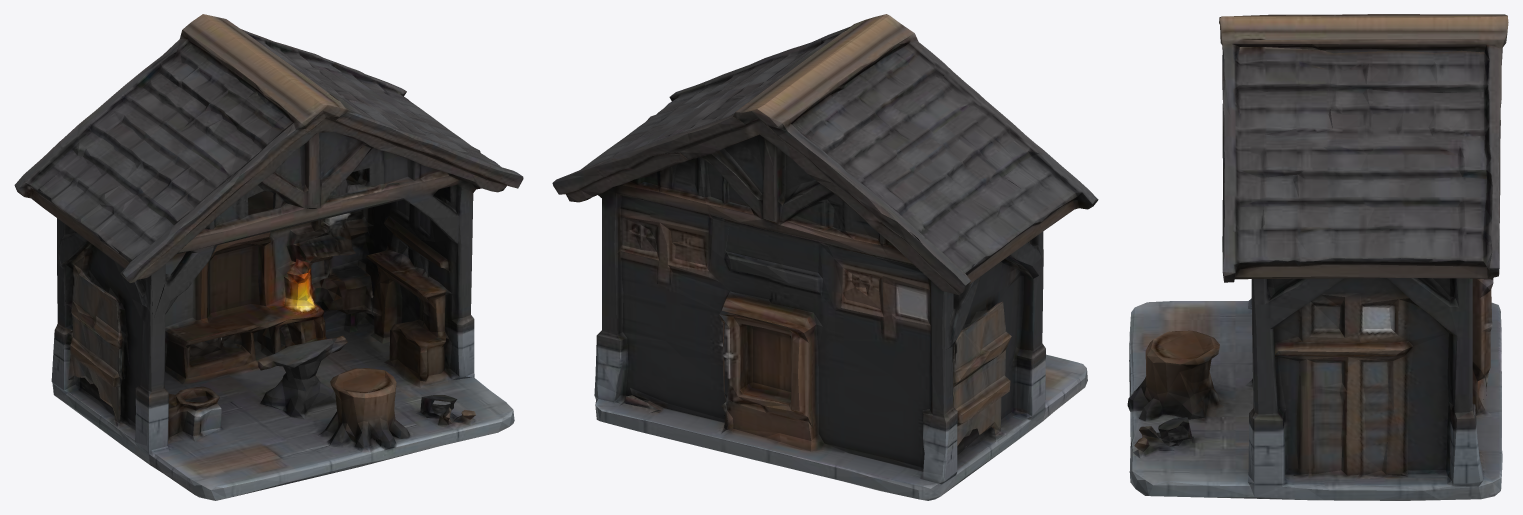
Rendered from smithy_open_shed_lod0.glb.
The picture shows the model from 3 angles, left to right: view 1: azimuth 30°, elevation 25°; view 2: azimuth 150°, elevation 25°; view 3: azimuth 270°, elevation 25°; orthographic projection. The views are drawn at different scales.
Parts seen in each view (by area): view 1: smithy_open_shed_lod0; view 2: smithy_open_shed_lod0; view 3: smithy_open_shed_lod0.
Boxes of the visible parts, <box> form: smithy_open_shed_lod0: <box>14,14,523,500</box>; smithy_open_shed_lod0: <box>552,14,1098,500</box>; smithy_open_shed_lod0: <box>1127,14,1508,500</box>.
Bounding box in the file's own units: 5.61 × 4.5 × 3.97.
Materials: 1 (1 with a texture image).
